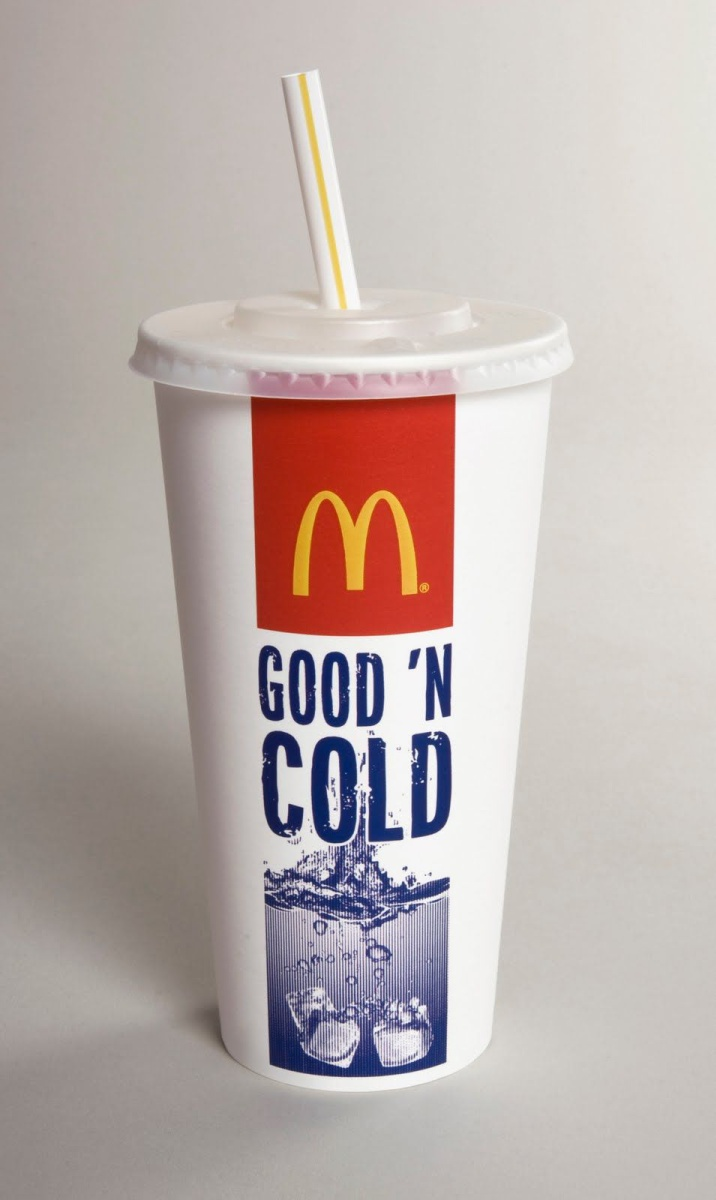mcdonalds: (288, 485, 423, 608)
